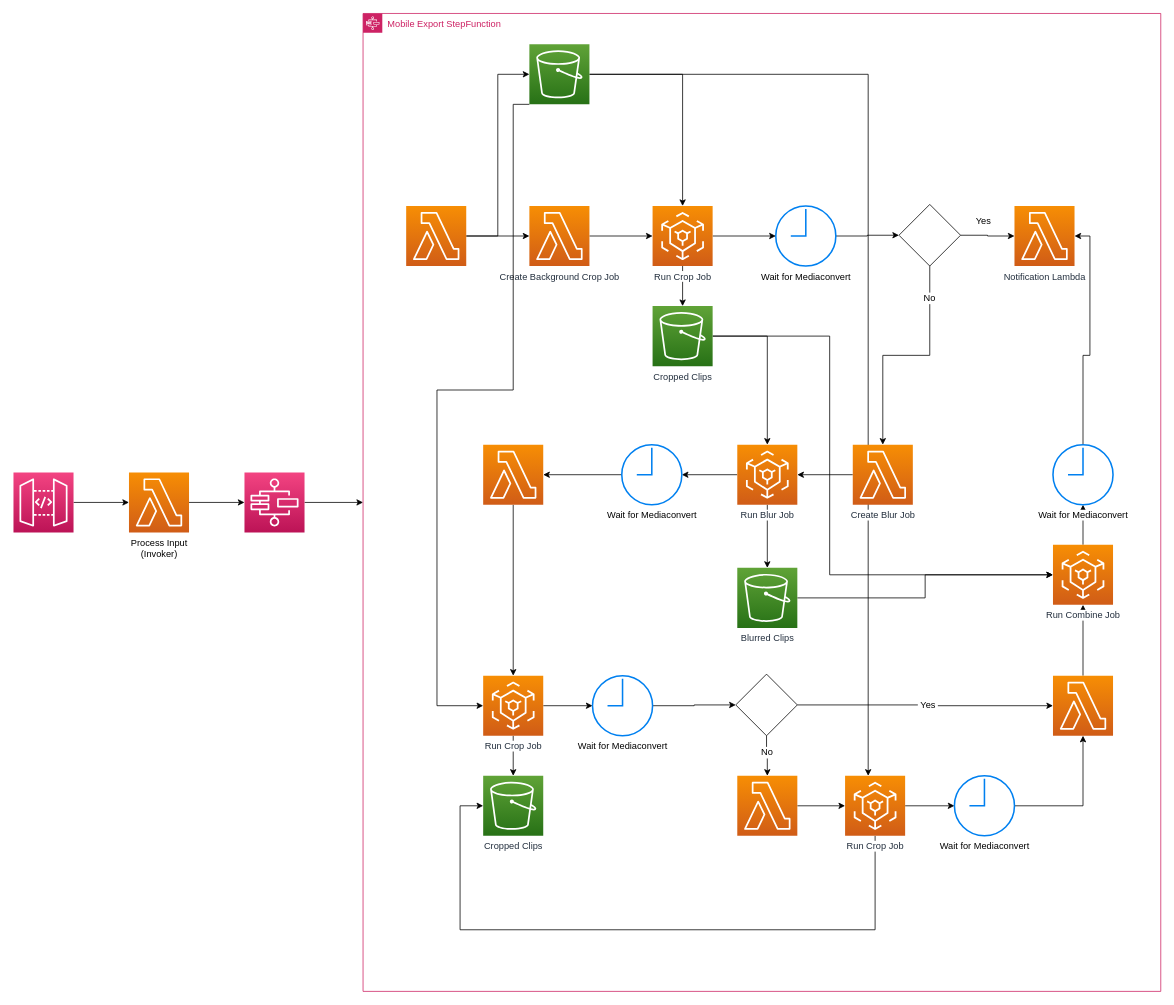
Image size: 1174x1005. Some labels were removed from this diagram. The centre of each missing label's shape, as x and y in pixels:
API Endpoint: point 43,502
Create Combine Job: point 1082,705
Create Content Crop Job: point 512,474
Create Facecam Crop Job: point 767,805
Done? x == 0: point 929,235
Done? x == 1: point 766,704
Get Clip From Twitch: point 435,235
Raw Twitch Clips: point 559,74
Start State Machine: point 274,502
